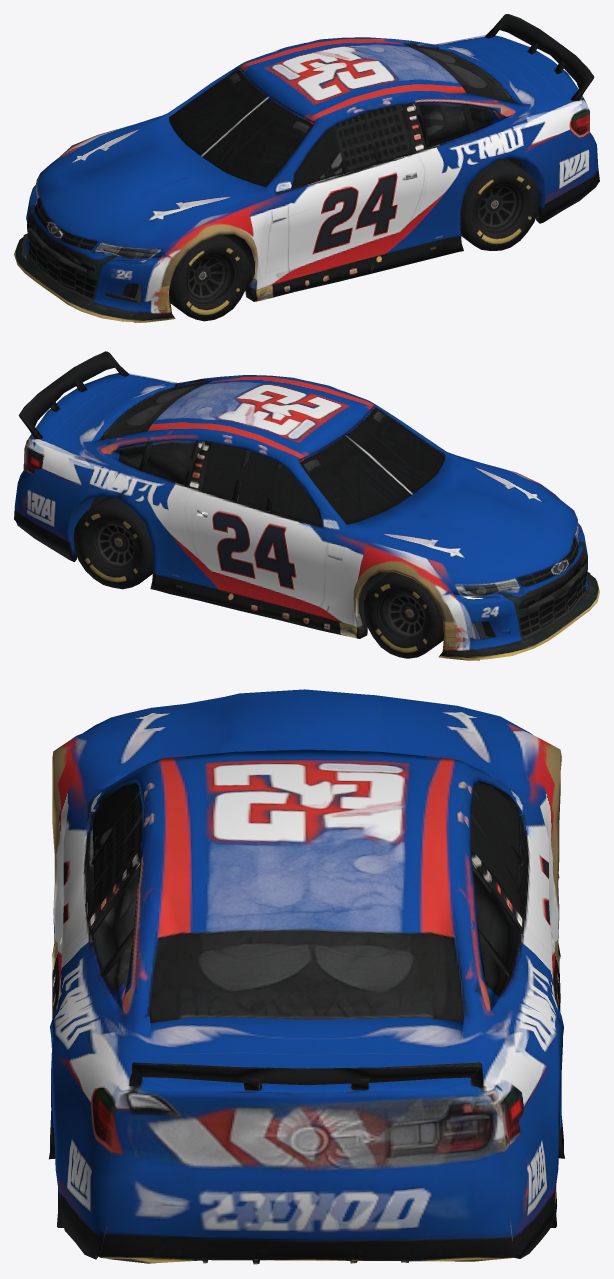
Rendered from stock_tex.fbx.
The picture shows the model from 3 angles, top to bottom: view 1: azimuth 30°, elevation 25°; view 2: azimuth 150°, elevation 25°; view 3: azimuth 270°, elevation 25°; orthographic projection. The views are drawn at different scales.
Visible parts, largest first — view 1: Mesh_0; view 2: Mesh_0; view 3: Mesh_0.
Part boxes in pixels (x1,y1,x2,y2): Mesh_0: [14, 14, 599, 322]; Mesh_0: [14, 351, 599, 660]; Mesh_0: [49, 689, 564, 1264].
Bounding box in the file's own units: 100 × 30.18 × 43.65.
1 material, 1 textured.
